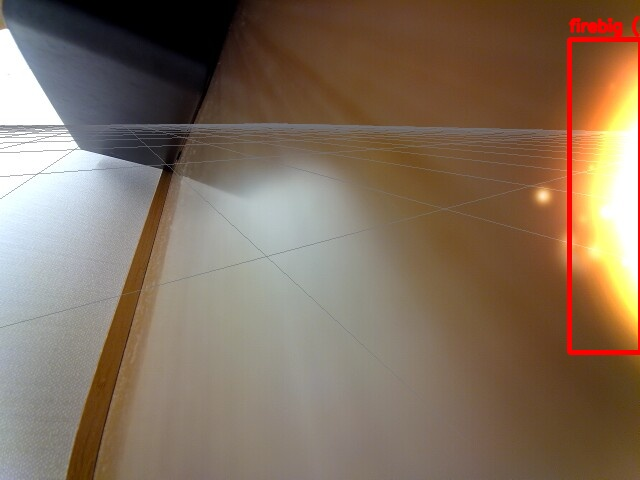firebig: (569, 39, 640, 352)
